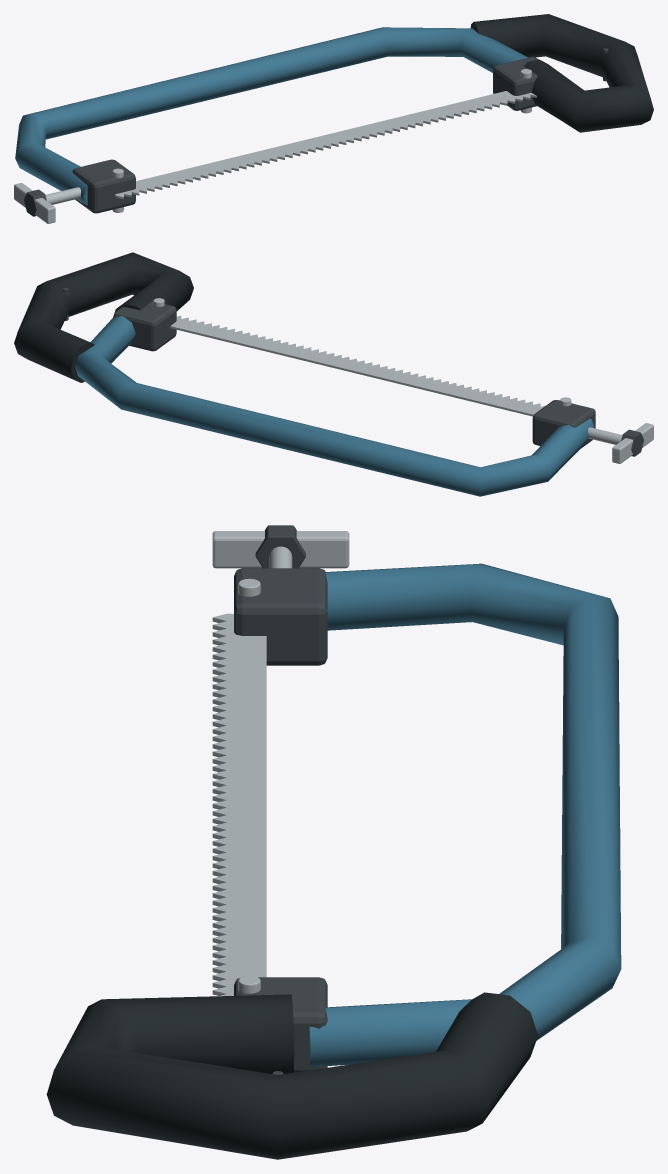
File: city-frame-hacksaw.glb
The picture shows the model from 3 angles, top to bottom: view 1: azimuth 30°, elevation 25°; view 2: azimuth 150°, elevation 25°; view 3: azimuth 270°, elevation 25°; orthographic projection. The views are drawn at different scales.
Visible parts, largest first — view 1: Assembly | Muted blue enamel, Assembly | Matte rubber grip, Assembly | Satin forged tool steel, Assembly | Dark steel and fittings; view 2: Assembly | Muted blue enamel, Assembly | Matte rubber grip, Assembly | Satin forged tool steel, Assembly | Dark steel and fittings; view 3: Assembly | Matte rubber grip, Assembly | Muted blue enamel, Assembly | Satin forged tool steel, Assembly | Dark steel and fittings.
Part boxes in pixels (x1,y1,x2,y2): Assembly | Muted blue enamel: (15, 27, 528, 205); Assembly | Matte rubber grip: (470, 14, 653, 132); Assembly | Satin forged tool steel: (14, 69, 536, 223); Assembly | Dark steel and fittings: (24, 48, 608, 216); Assembly | Muted blue enamel: (75, 315, 594, 496); Assembly | Matte rubber grip: (14, 252, 193, 382); Assembly | Satin forged tool steel: (153, 298, 653, 463); Assembly | Dark steel and fittings: (63, 288, 643, 456); Assembly | Matte rubber grip: (46, 992, 538, 1159); Assembly | Muted blue enamel: (309, 563, 621, 1067); Assembly | Satin forged tool steel: (212, 531, 349, 996); Assembly | Dark steel and fittings: (234, 525, 327, 1074).
Size of the model in its own units: 0.491 by 0.031 by 0.2019.
